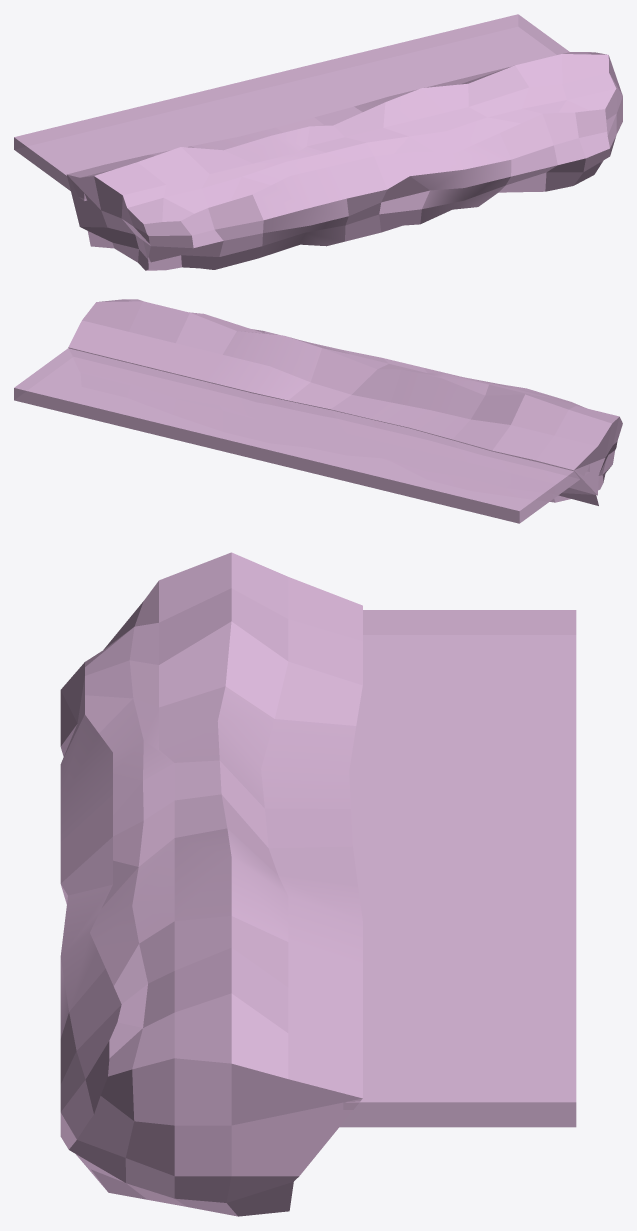
Rendered from CrystalPlatformV1.fbx.
3 renders of one model, top to bottom at view 1: azimuth 30°, elevation 25°; view 2: azimuth 150°, elevation 25°; view 3: azimuth 270°, elevation 25°, orthographic. The views are drawn at different scales.
Parts seen in each view (by area): view 1: pCube1, pCube2; view 2: pCube1, pCube2; view 3: pCube1, pCube2.
Part boxes in pixels (left/top/right/bottom): pCube1: left=66, top=52, right=622, bottom=270; pCube2: left=14, top=14, right=569, bottom=200; pCube1: left=68, top=299, right=622, bottom=505; pCube2: left=14, top=348, right=589, bottom=523; pCube1: left=60, top=552, right=362, bottom=1216; pCube2: left=339, top=610, right=576, bottom=1127.
Bounding box in the file's own units: 3.86 × 0.759 × 1.67.
